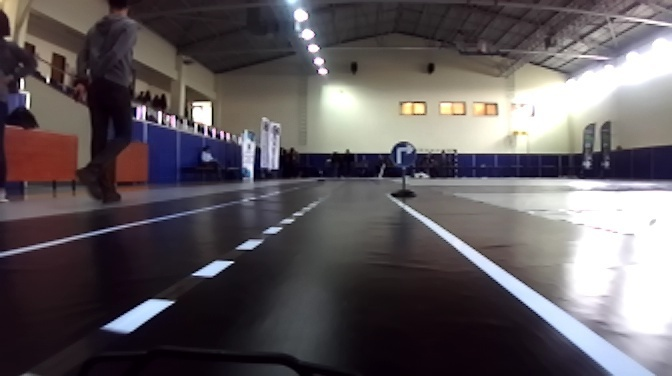saga_donus: (388, 143, 419, 170)
